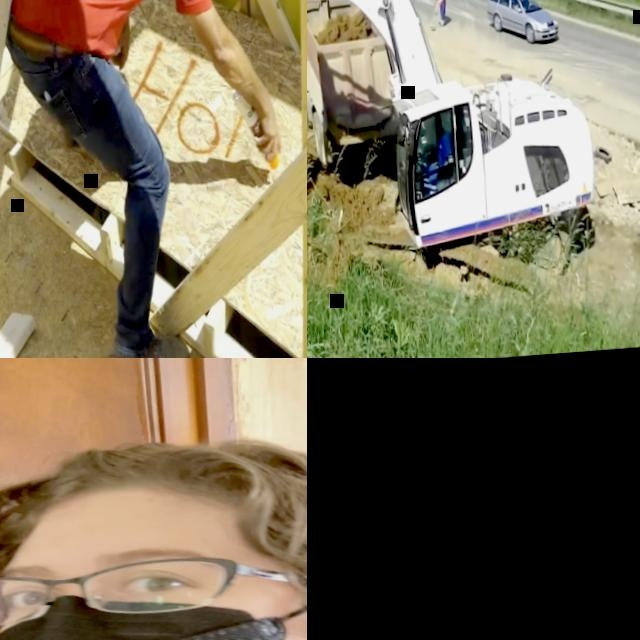Mask: (0, 576, 307, 640)
NO-Hardhat: (0, 420, 307, 552)
NO-Safety Vest: (0, 0, 180, 60), (435, 139, 449, 161)
Person: (0, 0, 298, 358), (0, 407, 307, 640), (421, 125, 454, 182), (429, 0, 446, 27)
machinery: (307, 0, 604, 341), (307, 0, 397, 174)
vehicle: (483, 0, 558, 49)
